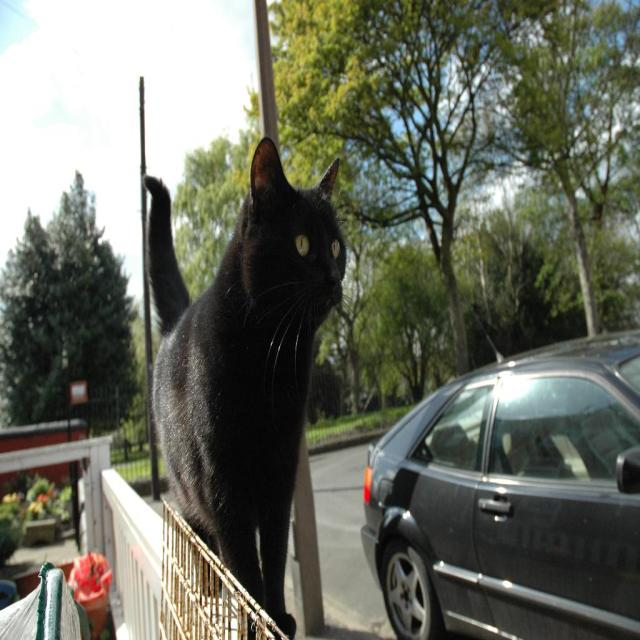Cat: (140, 137, 373, 638)
